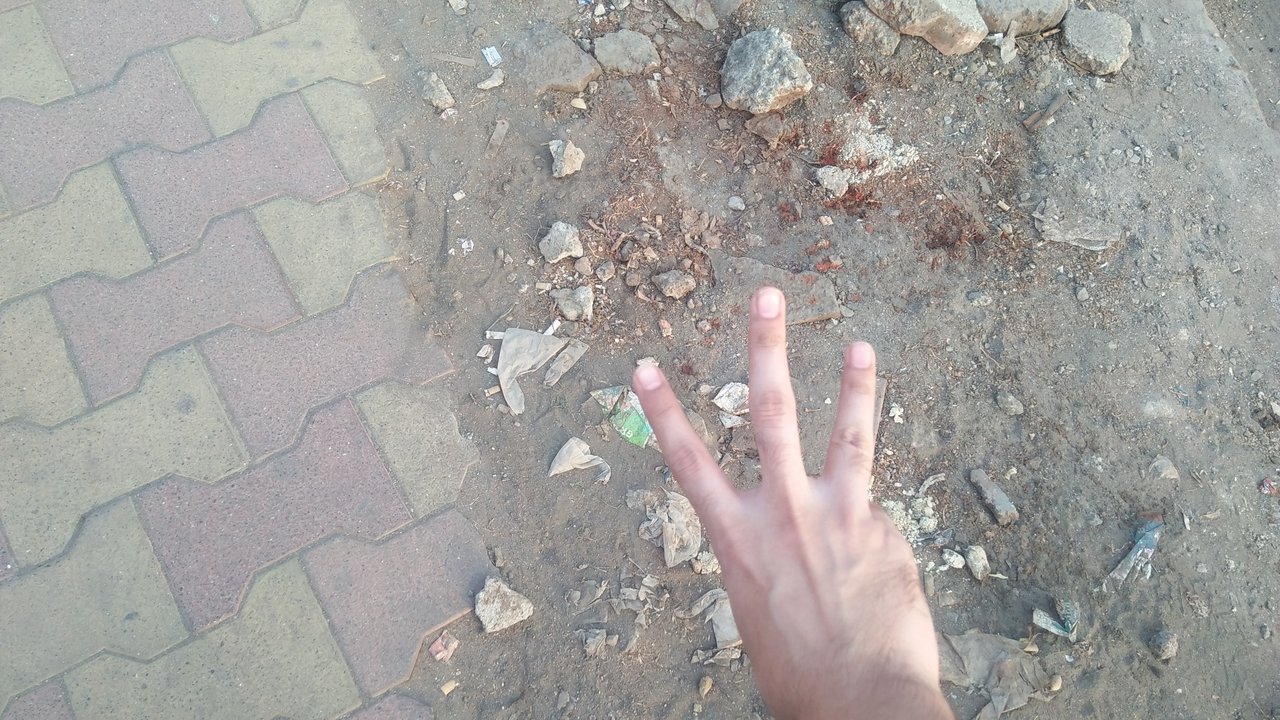fingertip: (624, 352, 678, 412), (748, 278, 796, 330), (840, 332, 884, 382)
